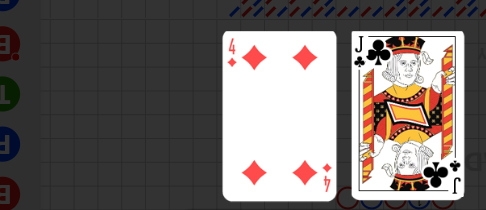4D: (226, 38, 238, 69)
JC: (447, 157, 463, 195)
